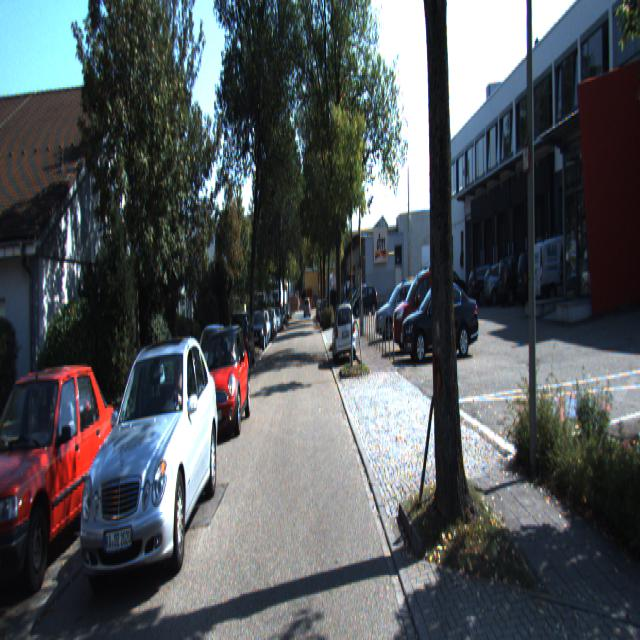Car: (76, 337, 221, 602), (0, 346, 119, 602), (399, 280, 481, 362), (196, 318, 251, 436), (392, 262, 459, 354), (527, 232, 598, 312), (332, 301, 356, 368)
